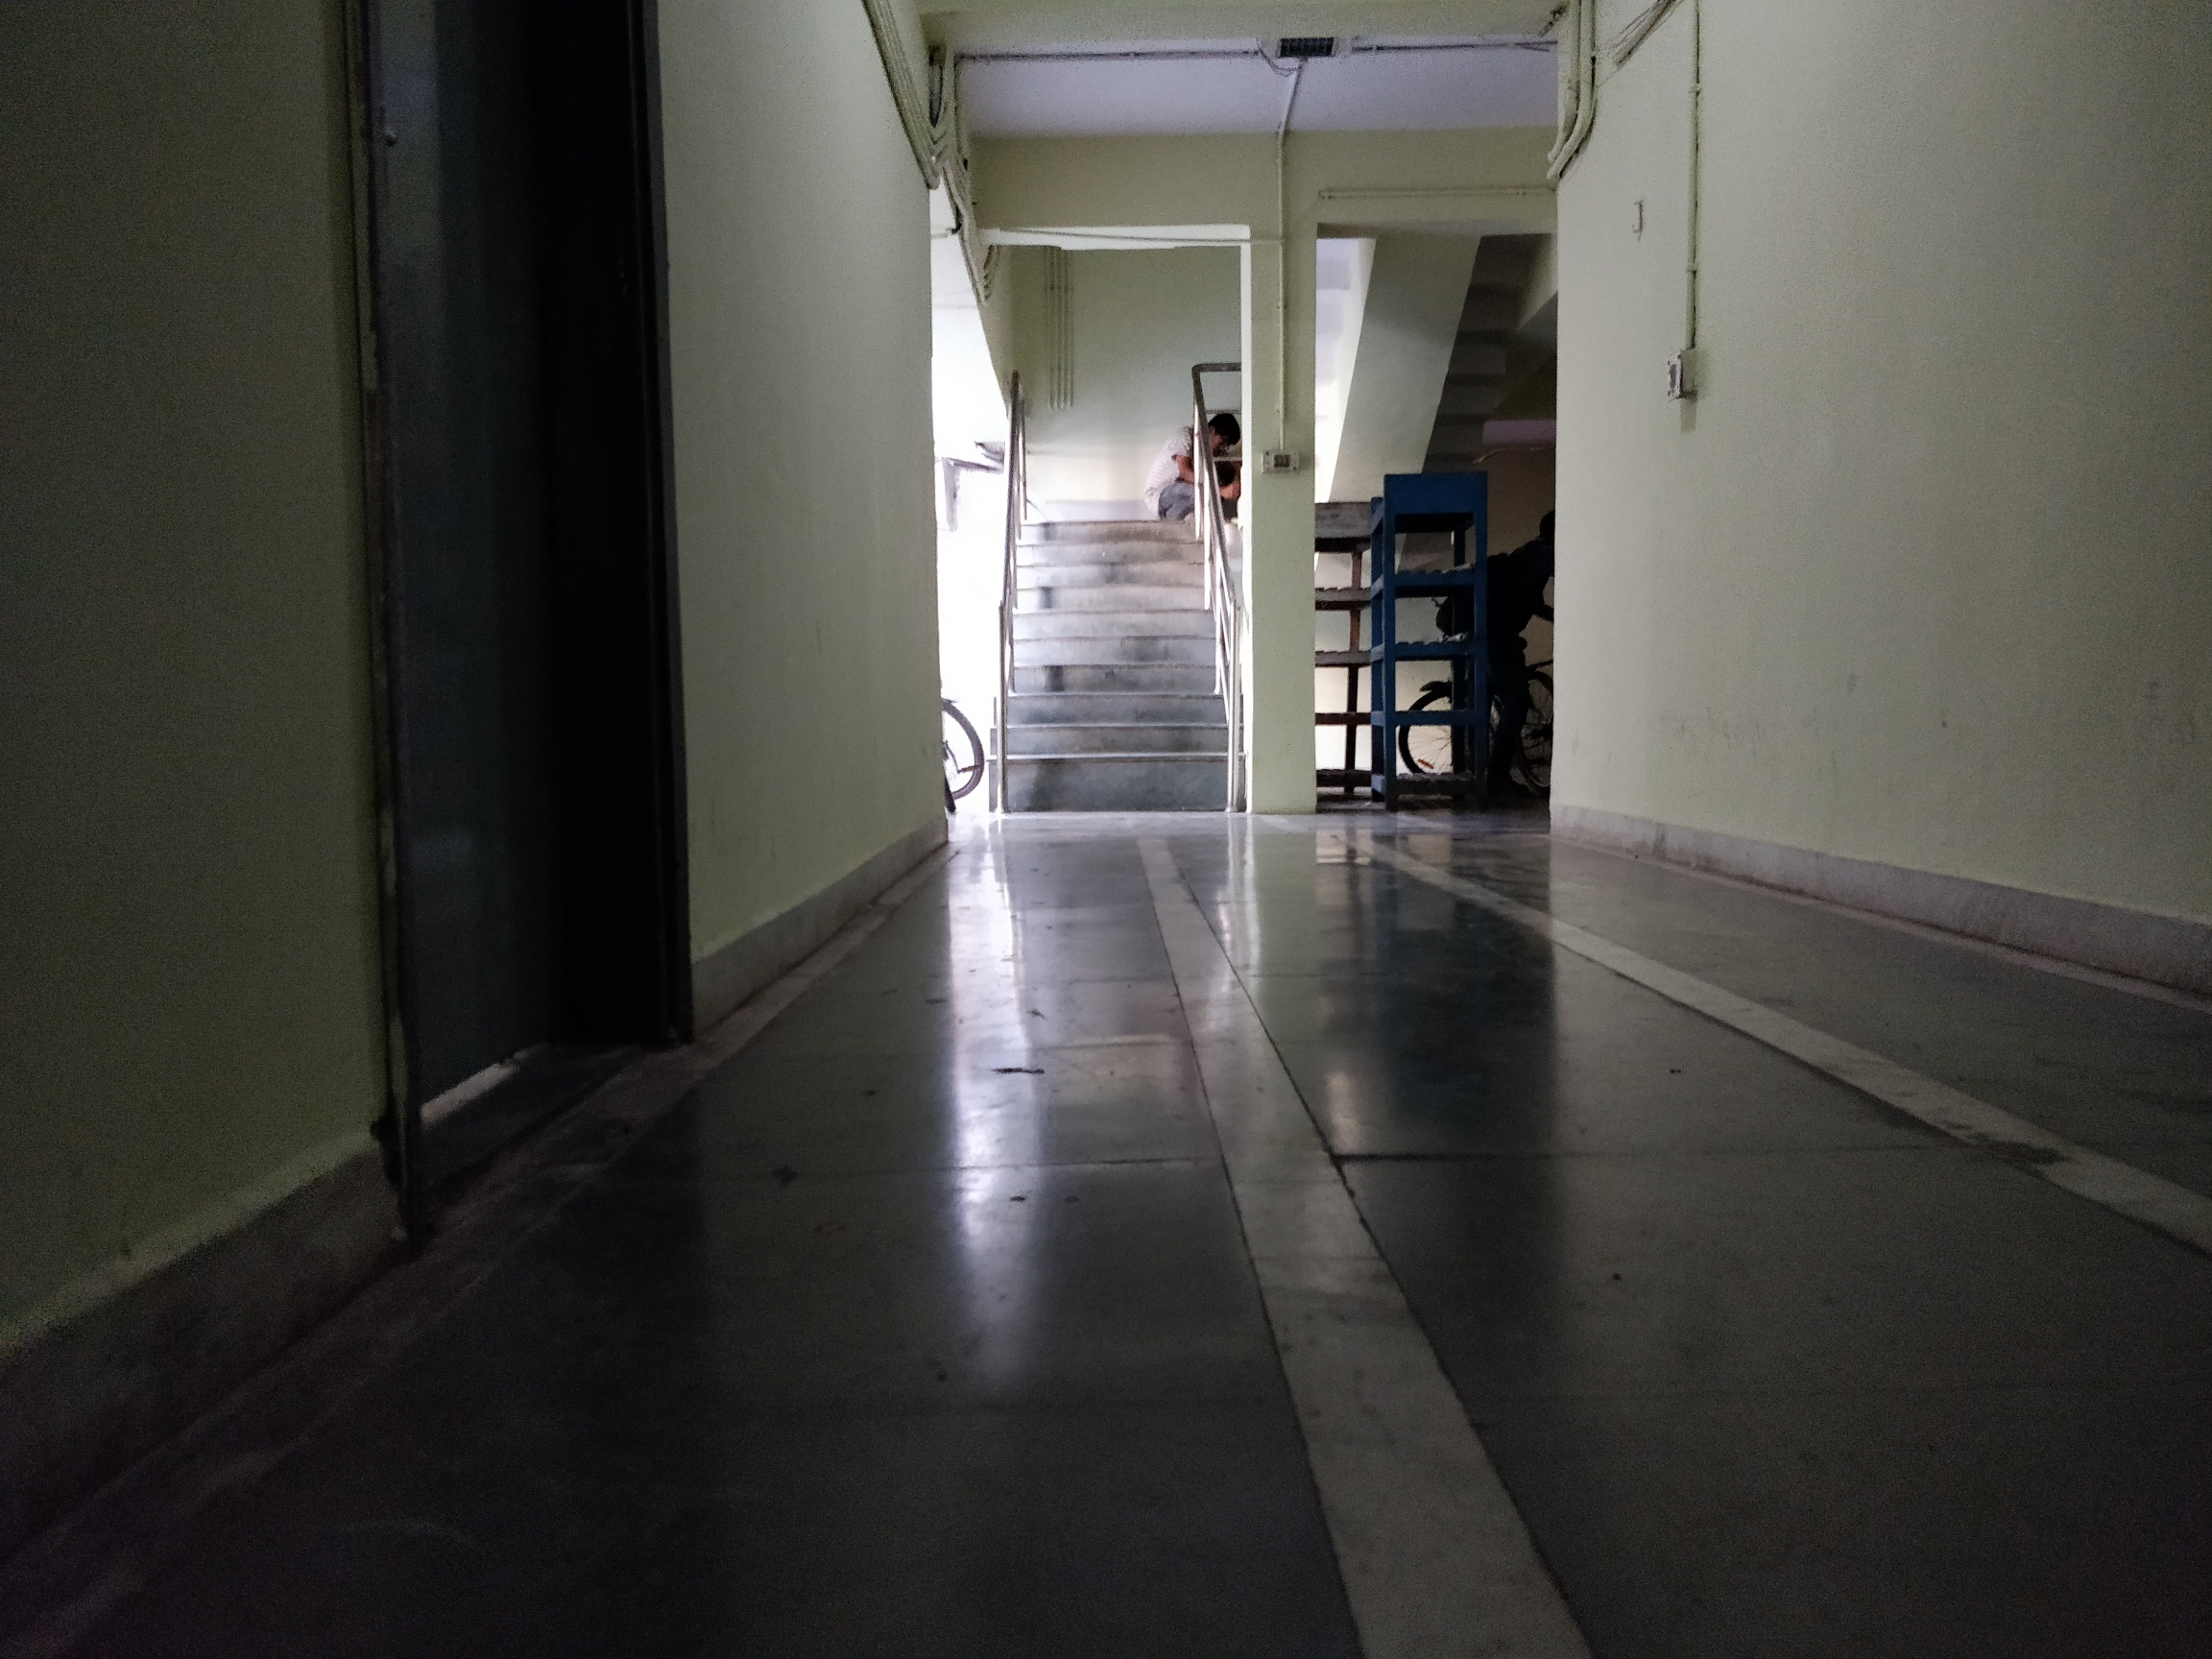stairs_up: (1010, 514, 1231, 796)
